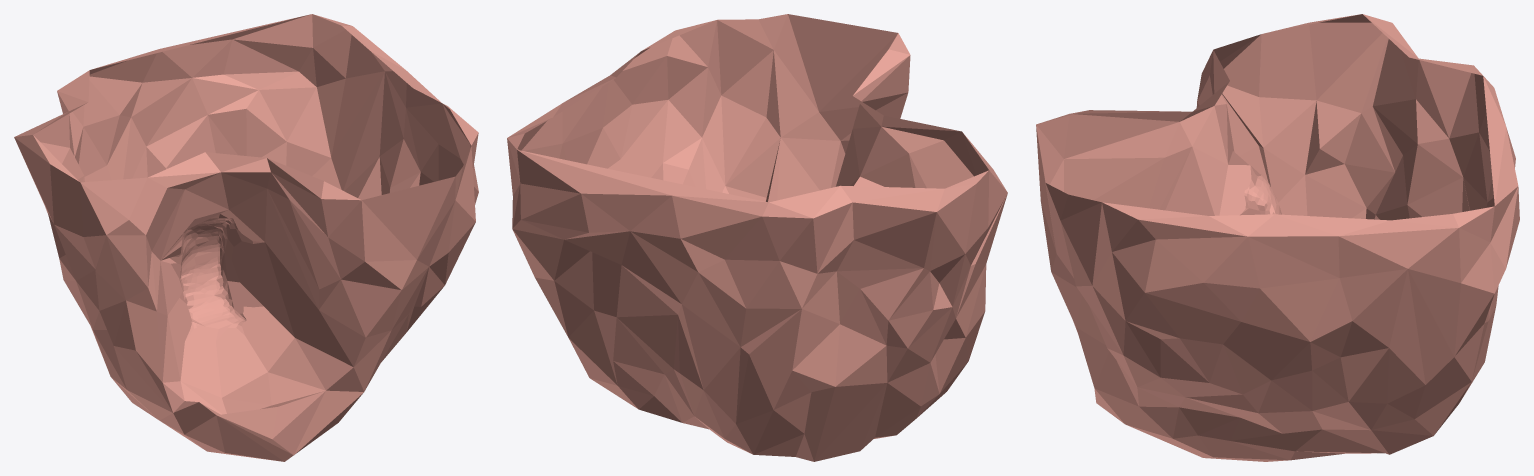
3 views of the same model, side by side, from view 1: azimuth 30°, elevation 25°; view 2: azimuth 150°, elevation 25°; view 3: azimuth 270°, elevation 25° (orthographic). The views are drawn at different scales.
Visible parts, largest first — view 1: bottom.001; view 2: bottom.001; view 3: bottom.001.
Part boxes in pixels (box(x1,y1,x2,y2)): bottom.001: box(14, 14, 478, 461); bottom.001: box(507, 14, 1007, 461); bottom.001: box(1036, 14, 1519, 461).
Size of the model in its own units: 1667 by 1273 by 1618.
